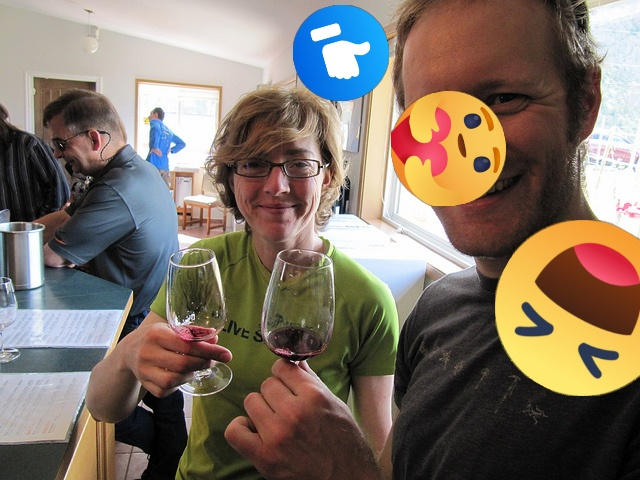care: (391, 91, 506, 206)
haha: (495, 220, 640, 396)
like: (293, 5, 389, 101)
